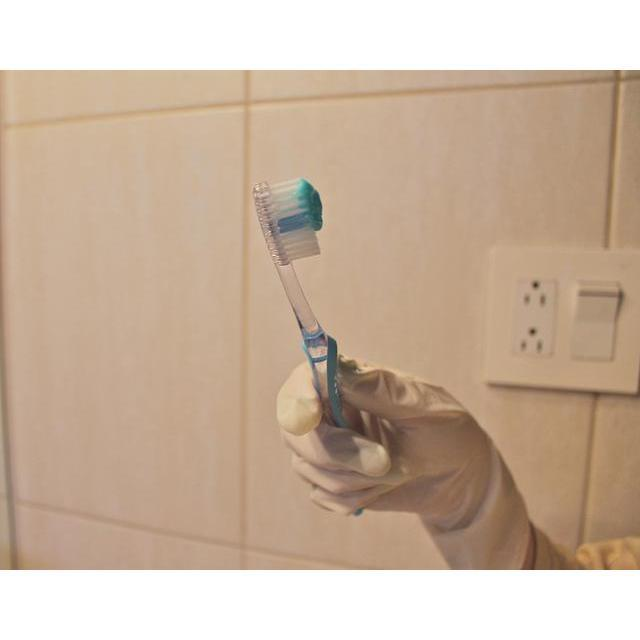toothbrush: (254, 178, 378, 442)
